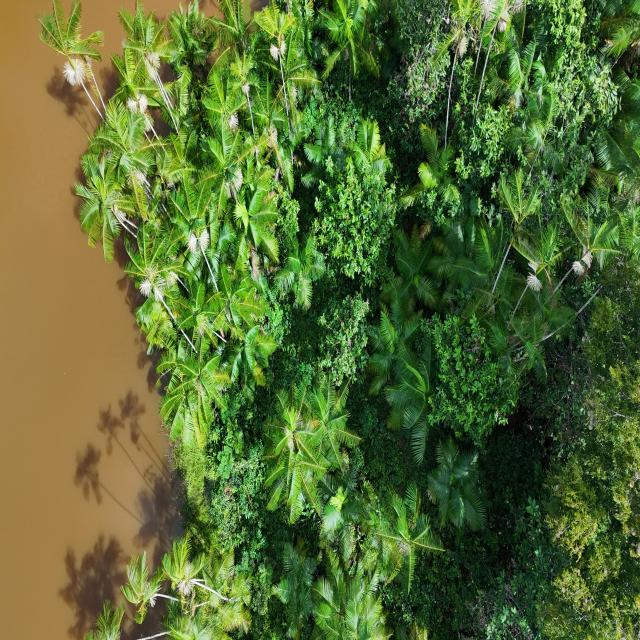vegetation: (36, 1, 638, 638)
